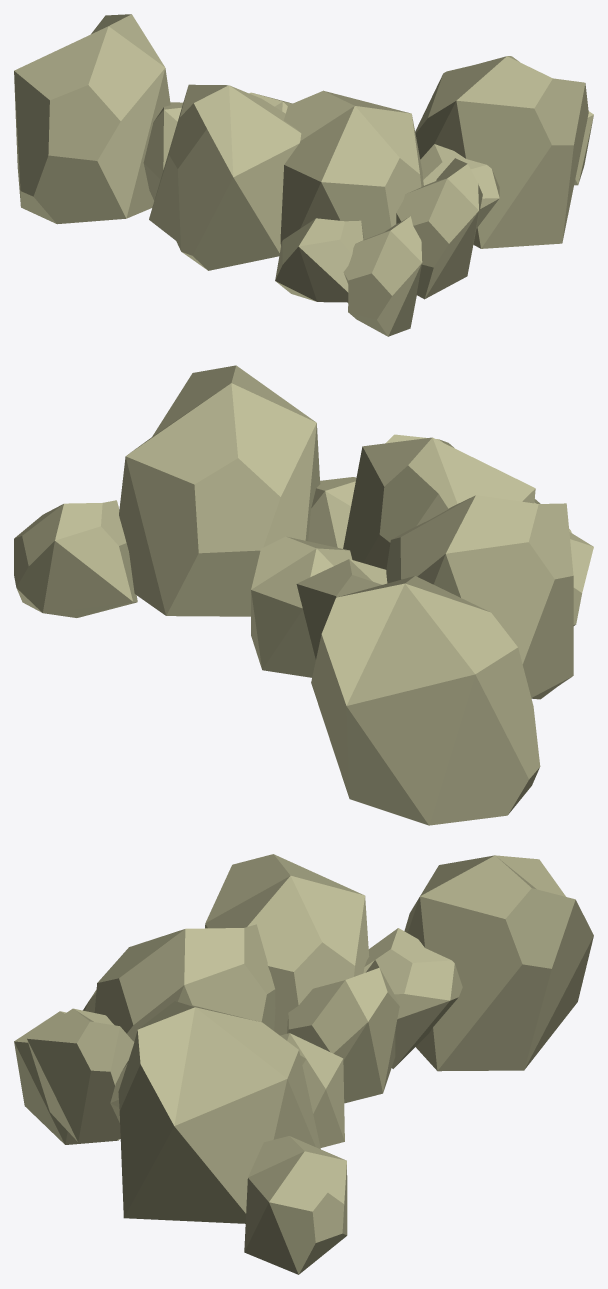
Rendered from rocks_1.glb.
The picture shows the model from 3 angles, top to bottom: view 1: azimuth 30°, elevation 25°; view 2: azimuth 150°, elevation 25°; view 3: azimuth 270°, elevation 25°; orthographic projection. The views are drawn at different scales.
Visible parts, largest first — view 1: rocks; view 2: rocks; view 3: rocks.
Part boxes in pixels (x1=…): rocks: x1=14, y1=14, x2=593, y2=336; rocks: x1=14, y1=365, x2=593, y2=825; rocks: x1=14, y1=854, x2=593, y2=1274.
Size of the model in its own units: 2.82 by 1.08 by 2.53.
